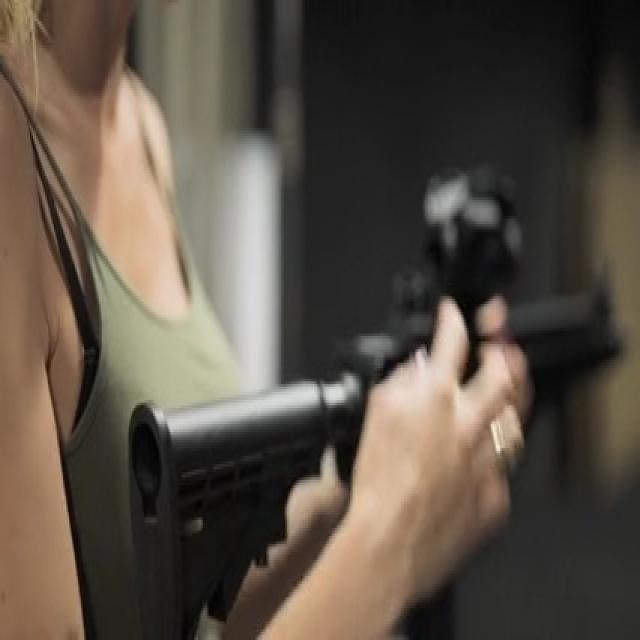Gun_Holder: (138, 146, 640, 640)
